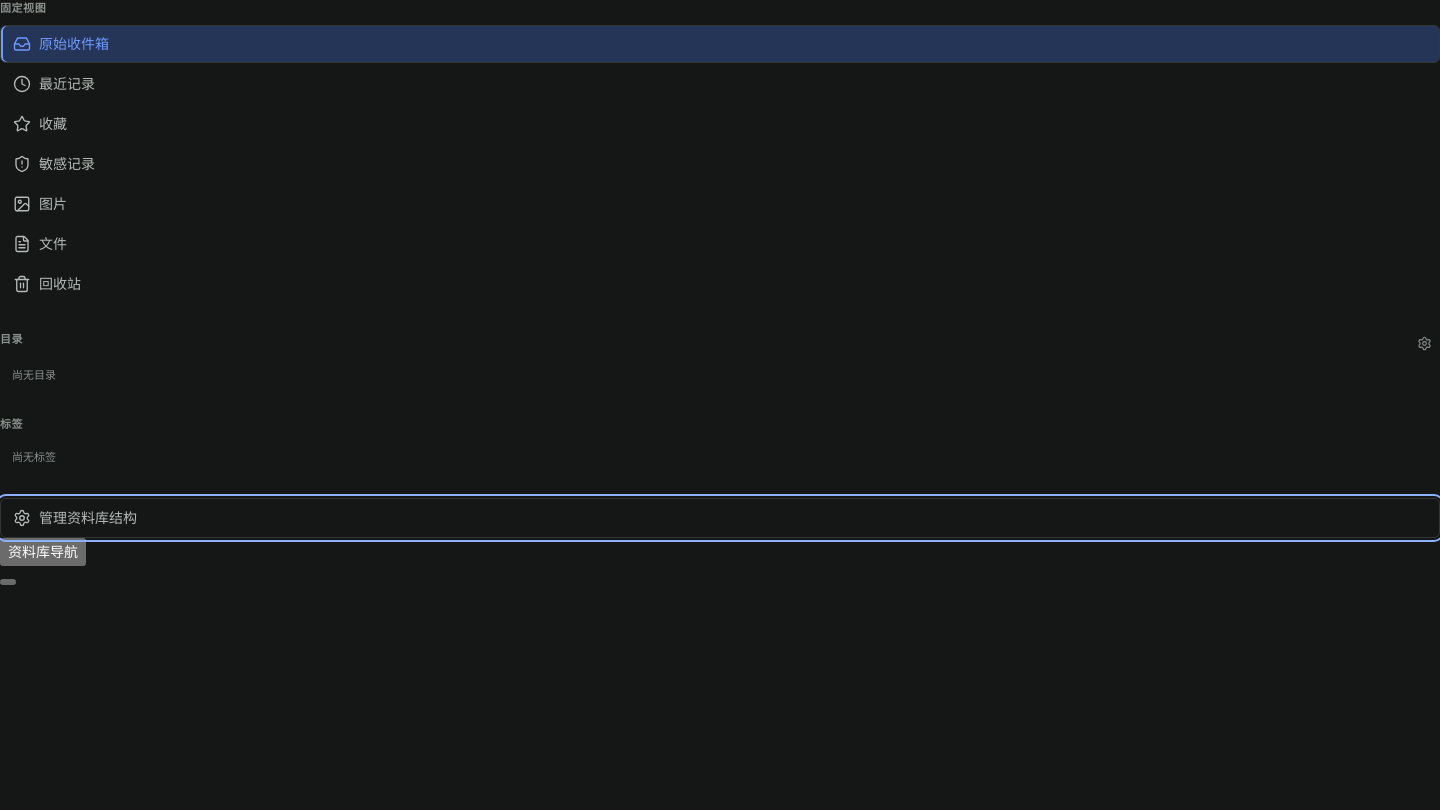
Test: LibraryManageDrawer 跨尺寸关闭回焦（DT-R290） › 宽屏打开→移动尺寸关闭：原入口随导航 inert 失效，回焦主区可见的移动管理入口
Expected: the 1st button named "管理目录与标签" is shown, [1408, 327, 1439, 359]
Click the button "管理资料库结构": coordinates (88, 518) [0, 498, 1439, 538]
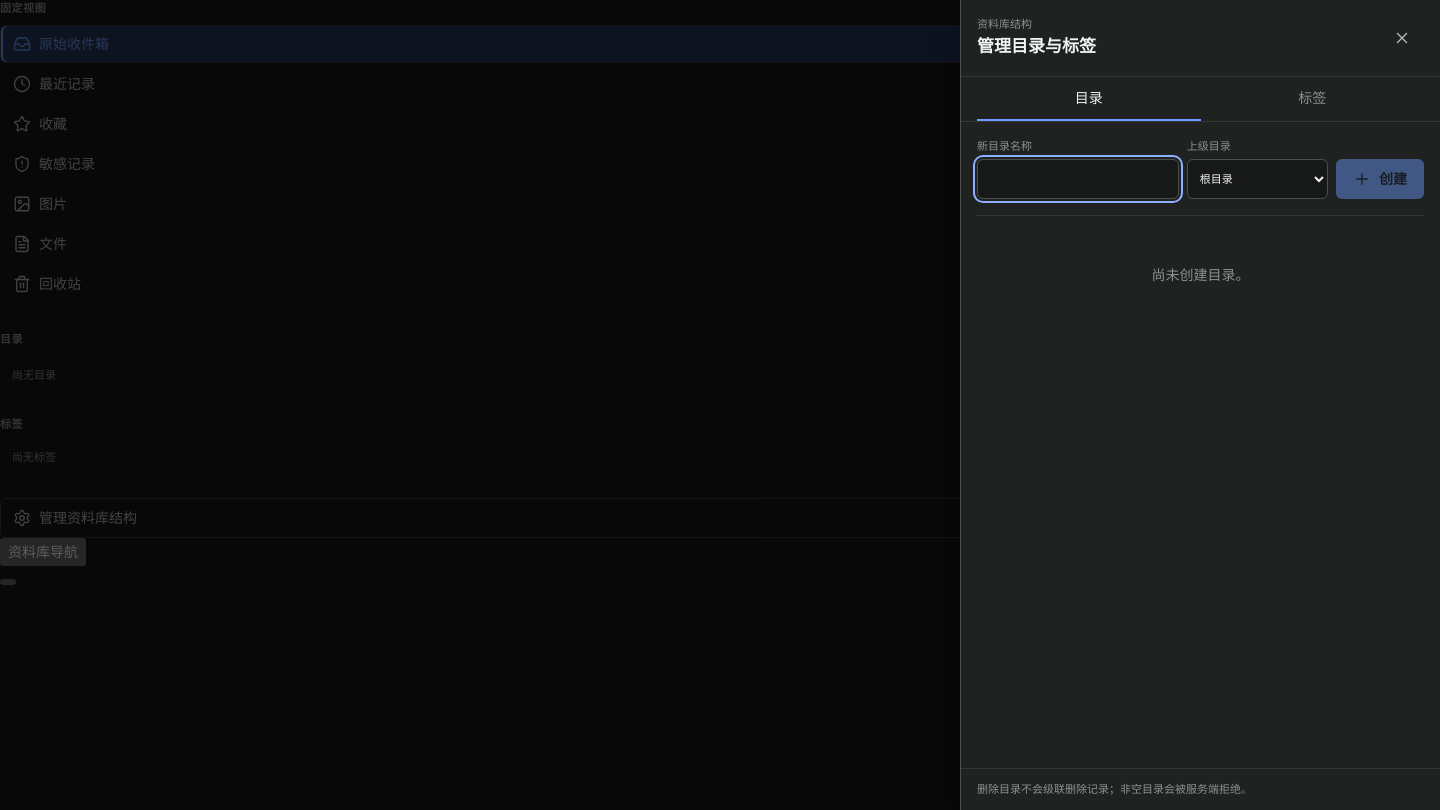
Now the dialog with class "manager" is shown, box [960, 0, 1439, 809]
Now the button named "关闭管理抽屉" is shown
Click the button named "关闭管理抽屉": coordinates (1402, 38) [1380, 16, 1424, 60]
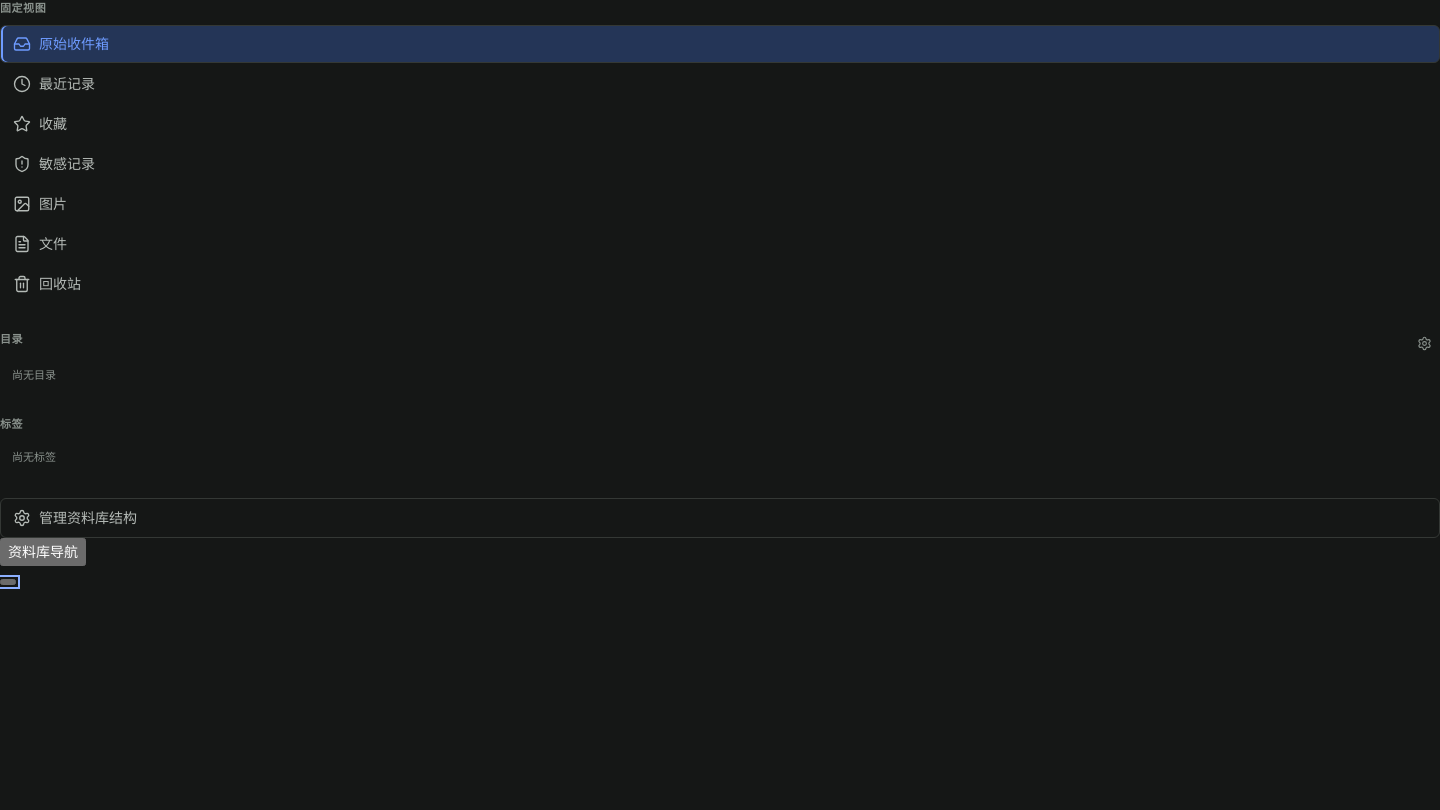
Now the dialog with class "manager" is gone
